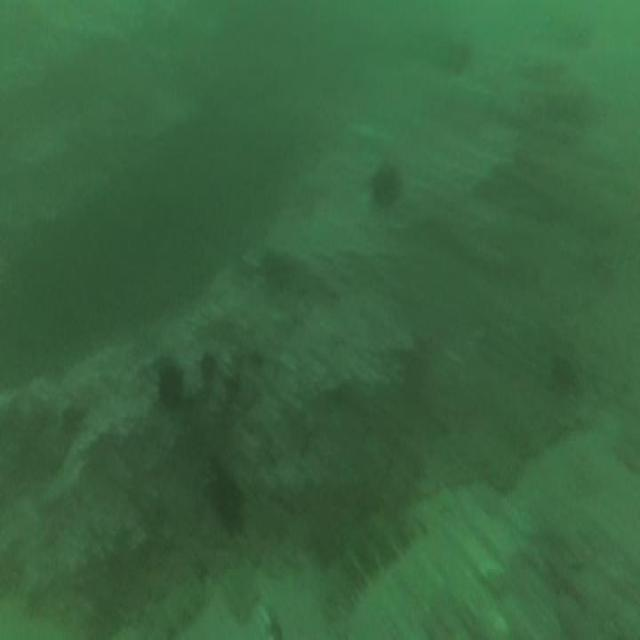echinus: (210, 477, 245, 534), (158, 363, 183, 411), (372, 166, 398, 210)
holothurian: (326, 515, 412, 615)
